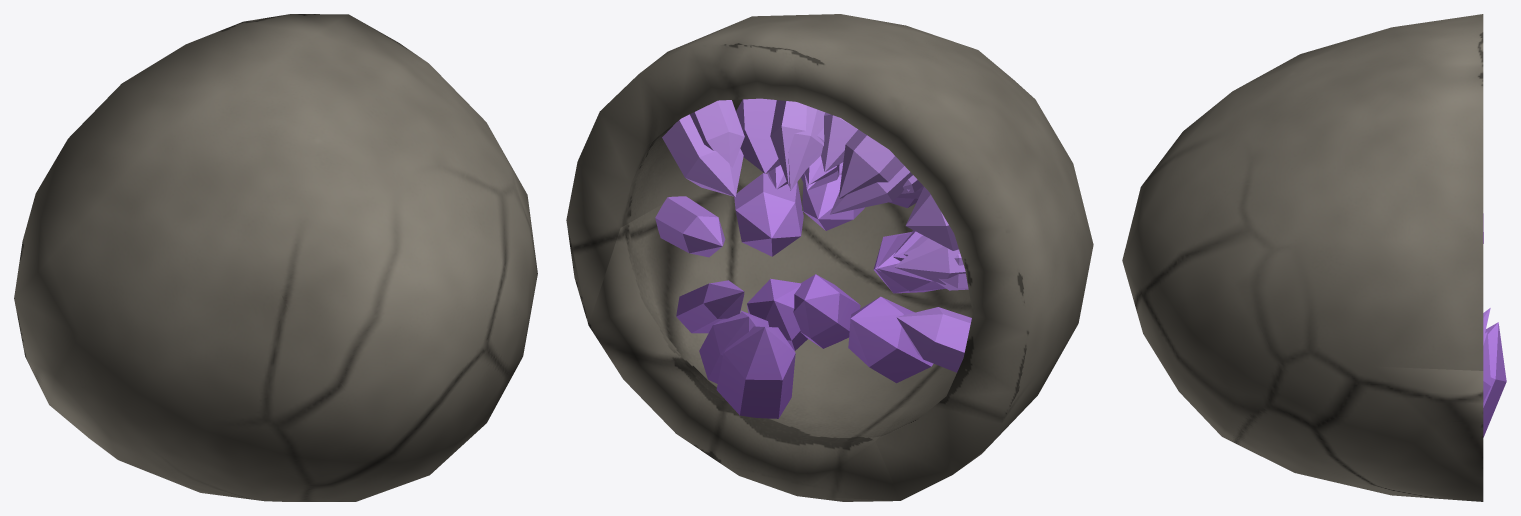
The model's file is amatista_bruta.fbx.
3 renders of one model, left to right at view 1: azimuth 30°, elevation 25°; view 2: azimuth 150°, elevation 25°; view 3: azimuth 270°, elevation 25°, orthographic.
Visible parts, largest first — view 1: amatista_bruta; view 2: amatista_bruta, amatista_bruta_cristal; view 3: amatista_bruta, amatista_bruta_cristal.
Part boxes in pixels (x1,y1,x2,y2): amatista_bruta: (14, 14, 537, 501); amatista_bruta: (566, 14, 1093, 501); amatista_bruta_cristal: (655, 98, 971, 418); amatista_bruta: (1122, 14, 1483, 501); amatista_bruta_cristal: (1483, 213, 1506, 437).
Size of the model in its own units: 2.36 by 2.17 by 1.73.
2 materials, 2 textured.
